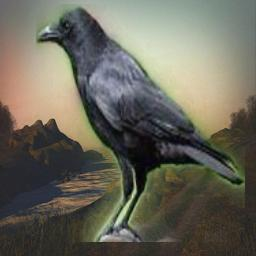Crow: (36, 4, 245, 242)
